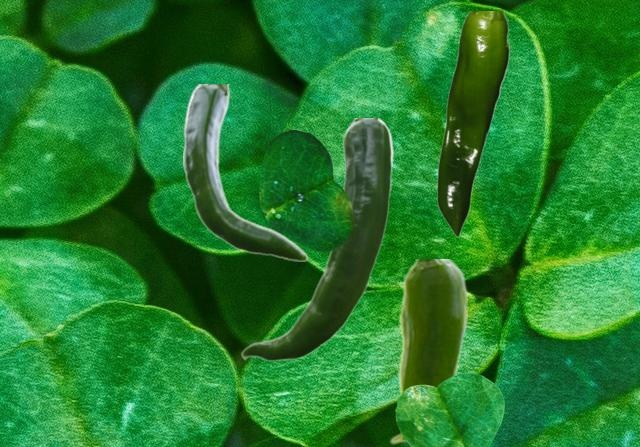green_chili: (240, 118, 393, 361), (183, 84, 307, 260), (436, 11, 508, 236), (388, 259, 466, 444)
